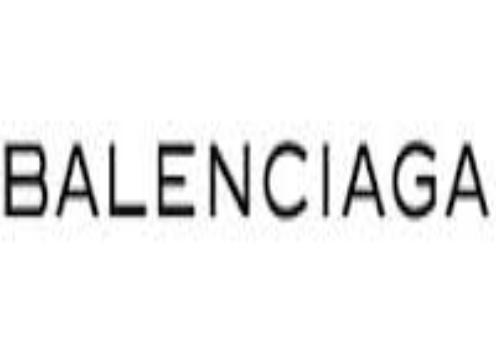BALENCIAGA: (2, 135, 486, 221)
